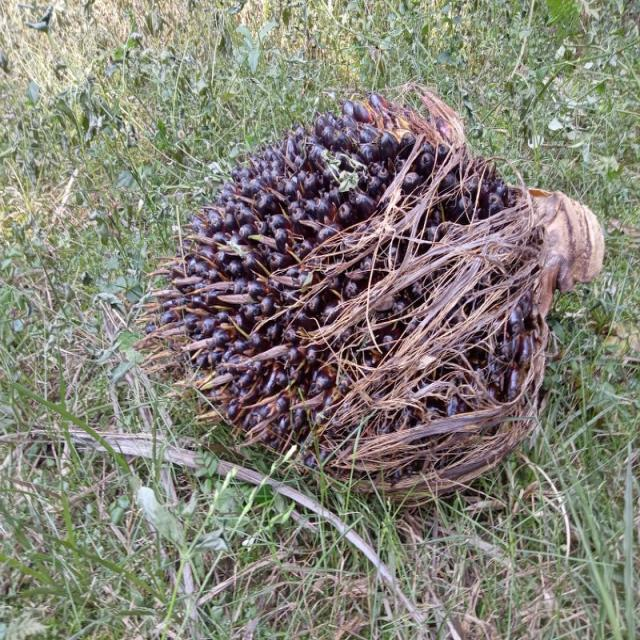fraksi 00: (155, 100, 550, 483)
